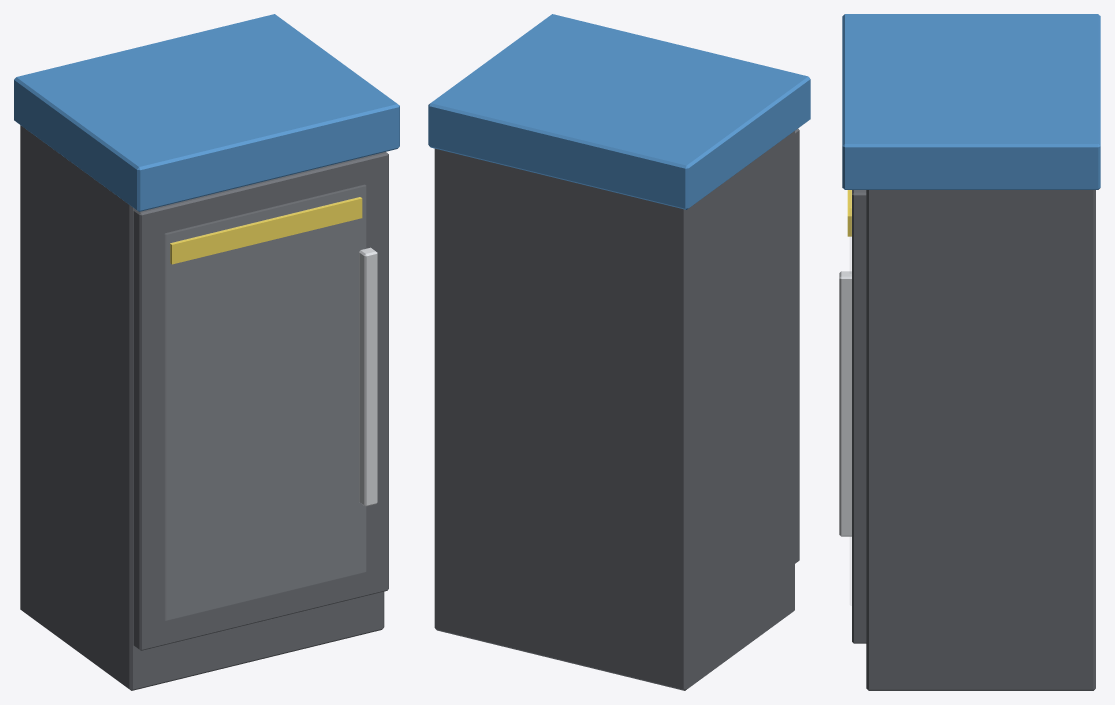
The model's file is public-swimming-baths-and-poolside-poolside-vending-ma-b10205eb__35278.glb.
3 views of the same model, side by side, from view 1: azimuth 30°, elevation 25°; view 2: azimuth 150°, elevation 25°; view 3: azimuth 270°, elevation 25° (orthographic). The views are drawn at different scales.
Parts seen in each view (by area): view 1: poolside-vending-machine, vending-door/frame, vending-door/glass, vending-door/metal, vending-door/yellow; view 2: poolside-vending-machine, vending-door/frame; view 3: poolside-vending-machine, vending-door/frame, vending-door/metal.
Boxes of the visible parts, box(x1,y1,x2,y2) form: poolside-vending-machine: box(14, 14, 399, 690); vending-door/frame: box(133, 152, 388, 650); vending-door/glass: box(165, 186, 365, 619); vending-door/metal: box(359, 247, 377, 506); vending-door/yellow: box(170, 197, 362, 264); poolside-vending-machine: box(428, 14, 810, 690); vending-door/frame: box(795, 128, 799, 563); poolside-vending-machine: box(842, 14, 1100, 690); vending-door/frame: box(852, 190, 866, 643); vending-door/metal: box(839, 271, 851, 536).
Bounding box in the file's own units: 0.98 × 1.9 × 0.82.
